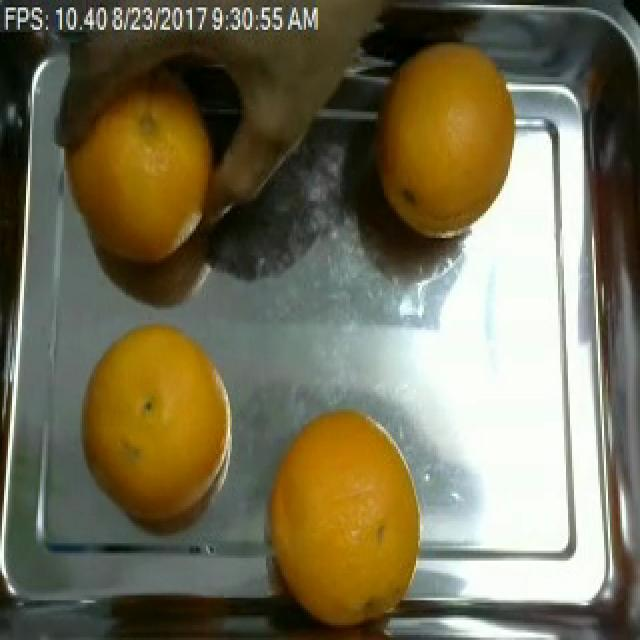Fruit: (70, 303, 244, 526), (360, 15, 526, 241)
